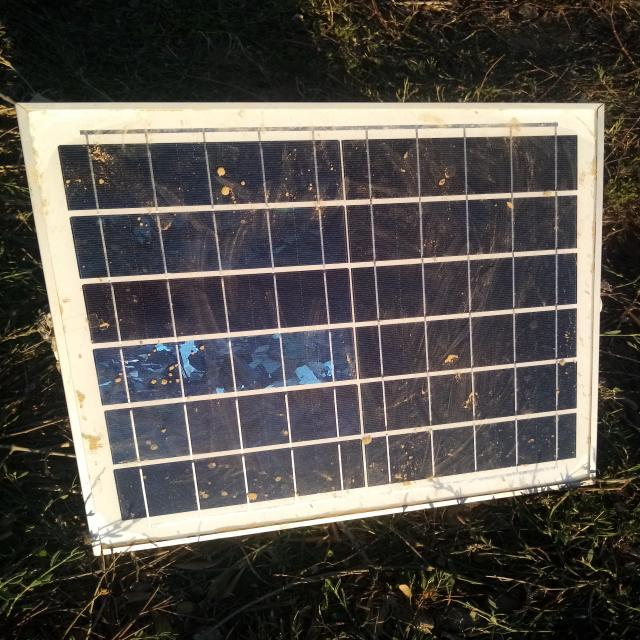faulty: (18, 108, 605, 548)
